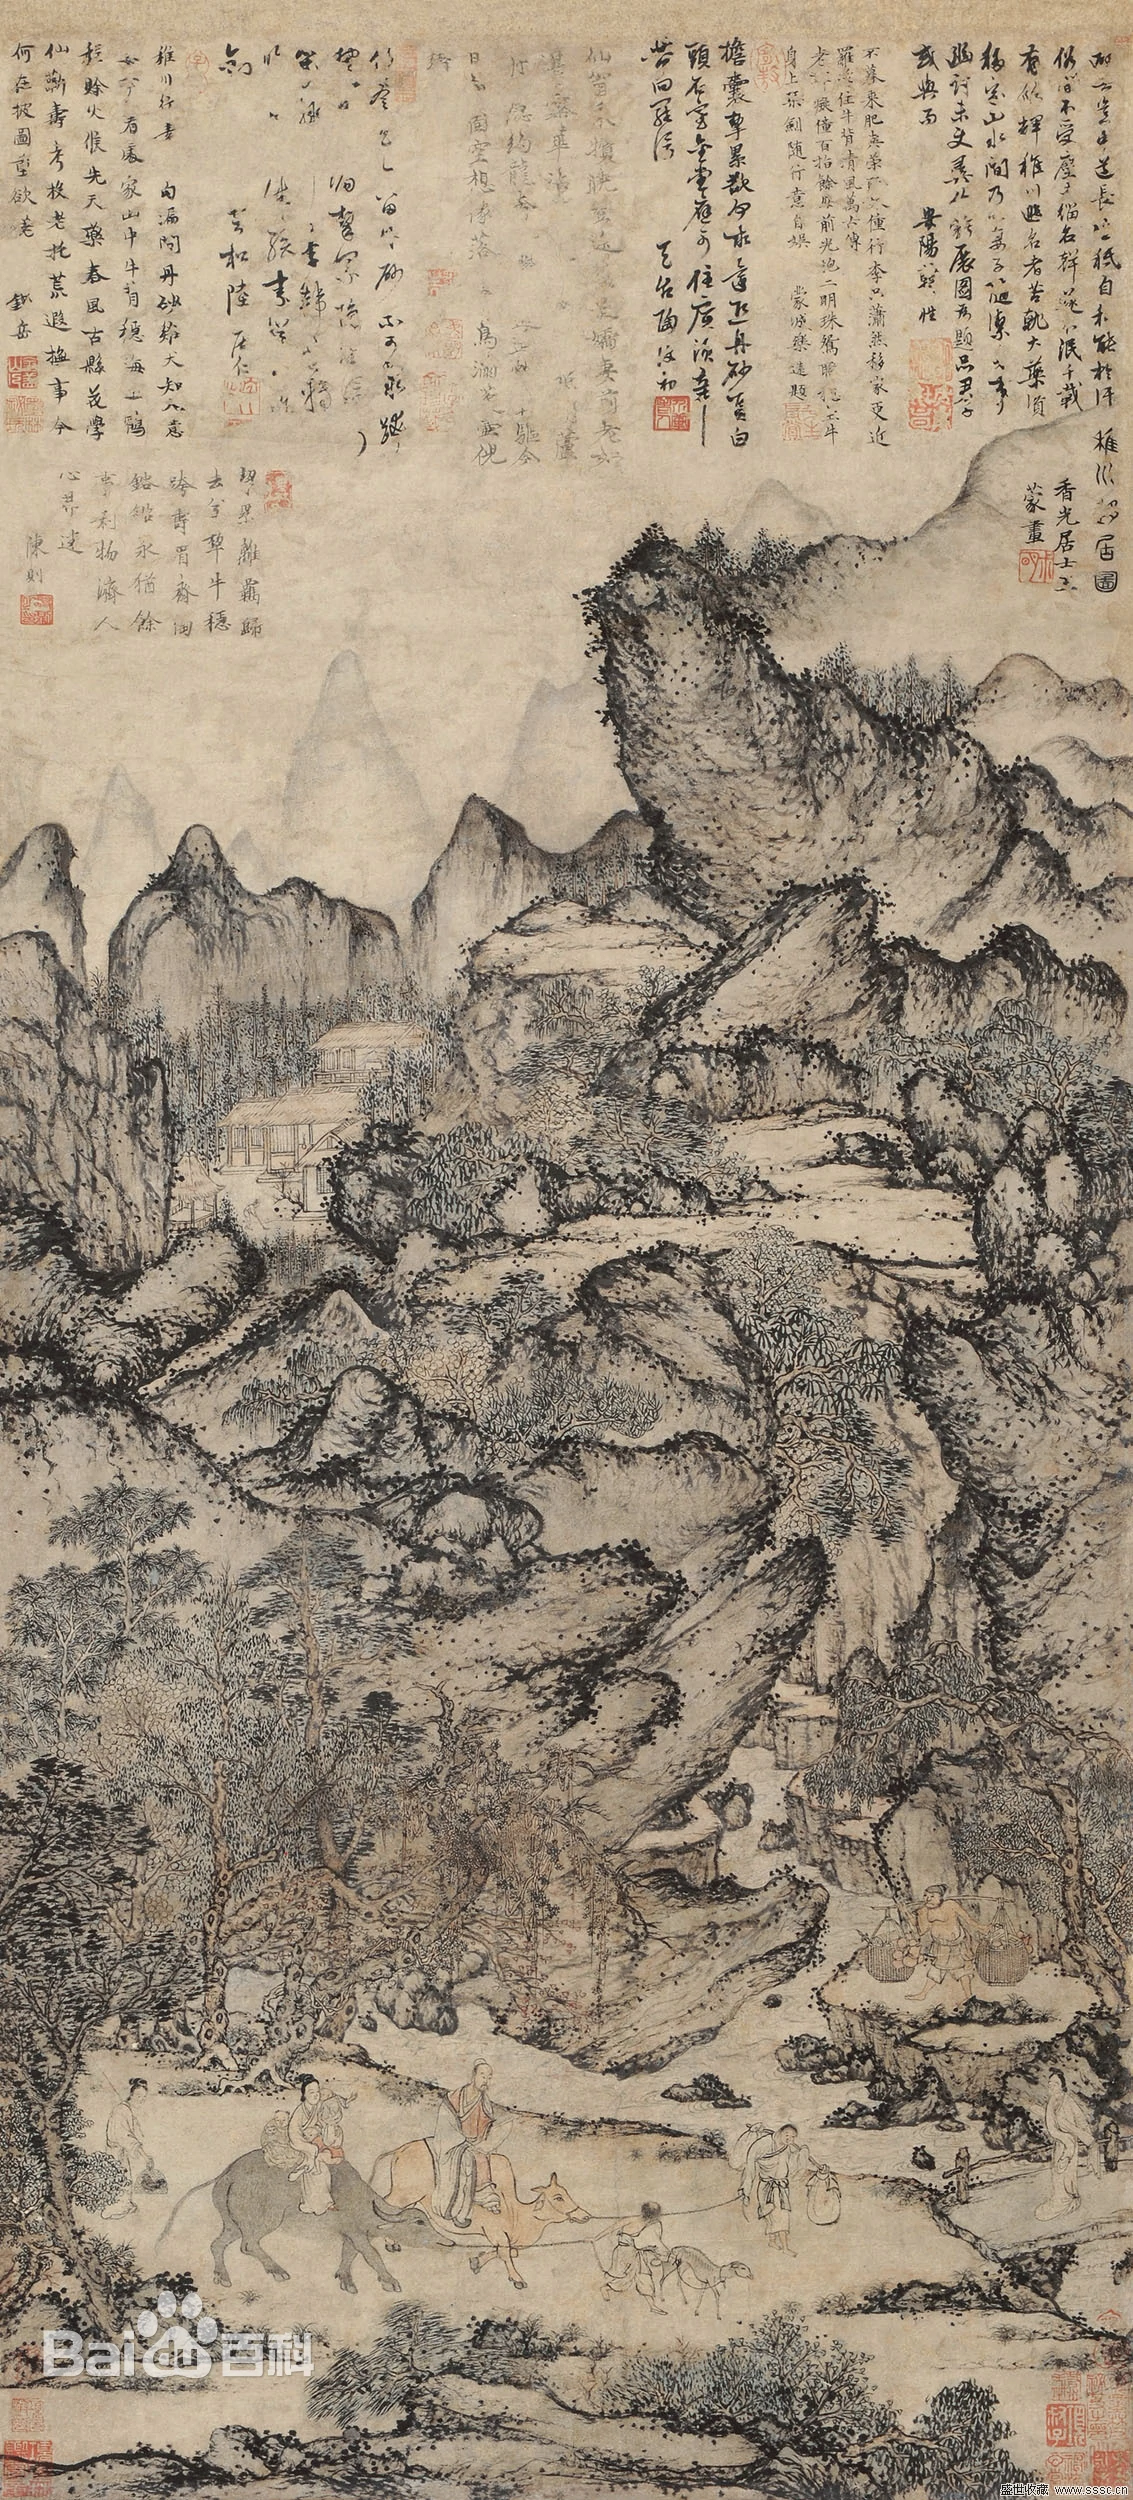bridge: (935, 2136, 1133, 2281)
cow: (173, 2152, 448, 2303), (368, 2123, 592, 2289)
house: (198, 1030, 417, 1192)
man: (864, 1877, 1045, 2013), (723, 2109, 856, 2267), (428, 2050, 512, 2231), (607, 2189, 678, 2263)
mountain: (590, 503, 1095, 891), (124, 805, 407, 1008), (424, 777, 659, 905), (4, 814, 92, 1066)
pine: (20, 1486, 631, 2061), (831, 1631, 1129, 1975), (621, 2313, 1024, 2484), (712, 1228, 906, 1561), (262, 1317, 673, 1450), (521, 975, 735, 1189), (876, 994, 1093, 1134), (320, 2311, 484, 2442), (410, 1109, 551, 1244)
woman: (268, 2053, 354, 2222), (99, 2066, 181, 2227), (1039, 2069, 1090, 2231)
